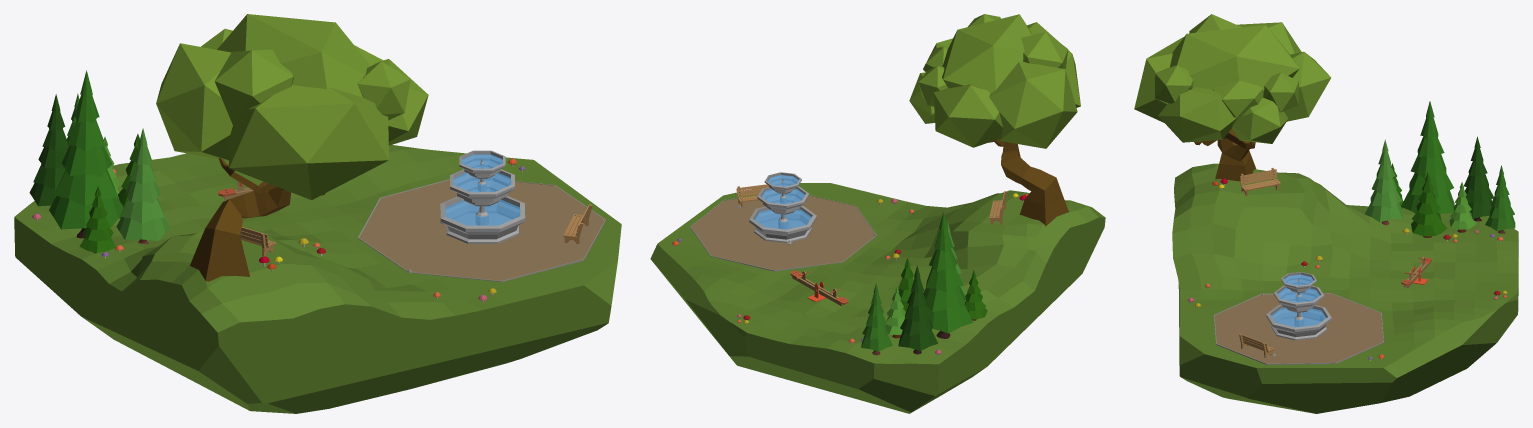
The model's file is Parc Champi - Espace vert.fbx.
3 renders of one model, left to right at view 1: azimuth 30°, elevation 25°; view 2: azimuth 150°, elevation 25°; view 3: azimuth 270°, elevation 25°, orthographic. The views are drawn at different scales.
Visible parts, largest first — view 1: Plane.001, Feuilles, Cylinder, Fontaine, Sapin 4.002, Tronc, Sapin 4.001, Sapin 4.003, Sapin 2.003; view 2: Plane.001, Feuilles, Cylinder, Fontaine, Sapin 4.002, Tronc, Sapin 4.003, Sapin 4.004, Sapin 2.003, Sapin 2.002, Balancoir, Sapin 2.001; view 3: Plane.001, Feuilles, Cylinder, Fontaine, Sapin 4.002, Sapin 4.001, Tronc, Sapin 4.003, Sapin 2.001, Sapin 4.004, Sapin 2.002, Banc.004.
Part boxes in pixels (left/top/right/bottom): Plane.001: left=14, top=145, right=621, bottom=413; Feuilles: left=156, top=14, right=428, bottom=200; Cylinder: left=358, top=179, right=605, bottom=281; Fontaine: left=440, top=150, right=525, bottom=243; Sapin 4.002: left=49, top=70, right=123, bottom=238; Tronc: left=190, top=158, right=325, bottom=281; Sapin 4.001: left=116, top=128, right=170, bottom=244; Sapin 4.003: left=29, top=94, right=68, bottom=206; Sapin 2.003: left=79, top=186, right=115, bottom=253; Plane.001: left=650, top=183, right=1105, bottom=413; Feuilles: left=909, top=14, right=1080, bottom=148; Cylinder: left=690, top=195, right=876, bottom=271; Fontaine: left=749, top=172, right=816, bottom=242; Sapin 4.002: left=923, top=212, right=973, bottom=338; Tronc: left=989, top=139, right=1068, bottom=226; Sapin 4.003: left=898, top=265, right=938, bottom=354; Sapin 4.004: left=861, top=283, right=892, bottom=355; Sapin 2.003: left=964, top=270, right=987, bottom=320; Sapin 2.002: left=885, top=286, right=905, bottom=338; Balancoir: left=790, top=270, right=848, bottom=306; Sapin 2.001: left=887, top=257, right=913, bottom=316; Plane.001: left=1172, top=163, right=1518, bottom=413; Feuilles: left=1134, top=14, right=1331, bottom=143; Cylinder: left=1214, top=293, right=1383, bottom=364; Fontaine: left=1266, top=272, right=1331, bottom=340; Sapin 4.002: left=1401, top=101, right=1454, bottom=213; Sapin 4.001: left=1364, top=139, right=1402, bottom=225; Tronc: left=1194, top=128, right=1256, bottom=181; Sapin 4.003: left=1464, top=136, right=1493, bottom=221; Sapin 2.001: left=1411, top=172, right=1447, bottom=237; Sapin 4.004: left=1485, top=165, right=1515, bottom=233; Sapin 2.002: left=1449, top=182, right=1476, bottom=232; Banc.004: left=1240, top=168, right=1280, bottom=196.
Size of the model in its own units: 2160 by 1680 by 2153.
